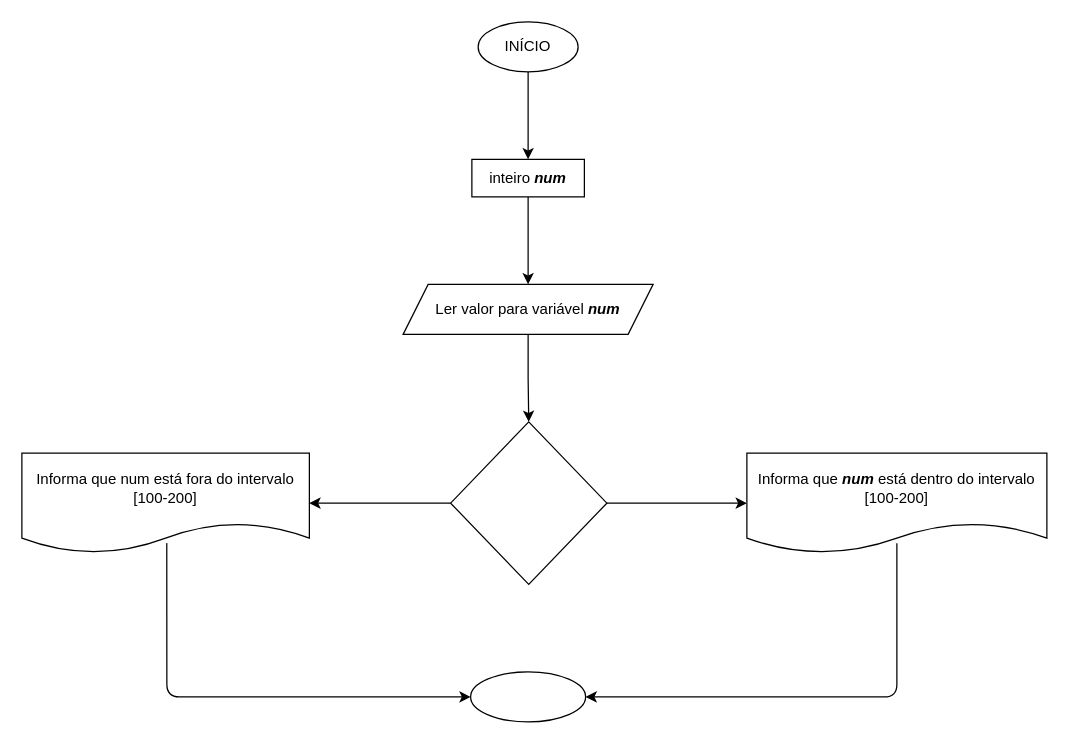
Image size: 1069x744. Some labels were removed from this diagram. The centre of each missing label's shape, as x and y in pixels:
"100 >= num <= 200" belongs at (x=528, y=502).
"FIM" belongs at (x=527, y=696).
